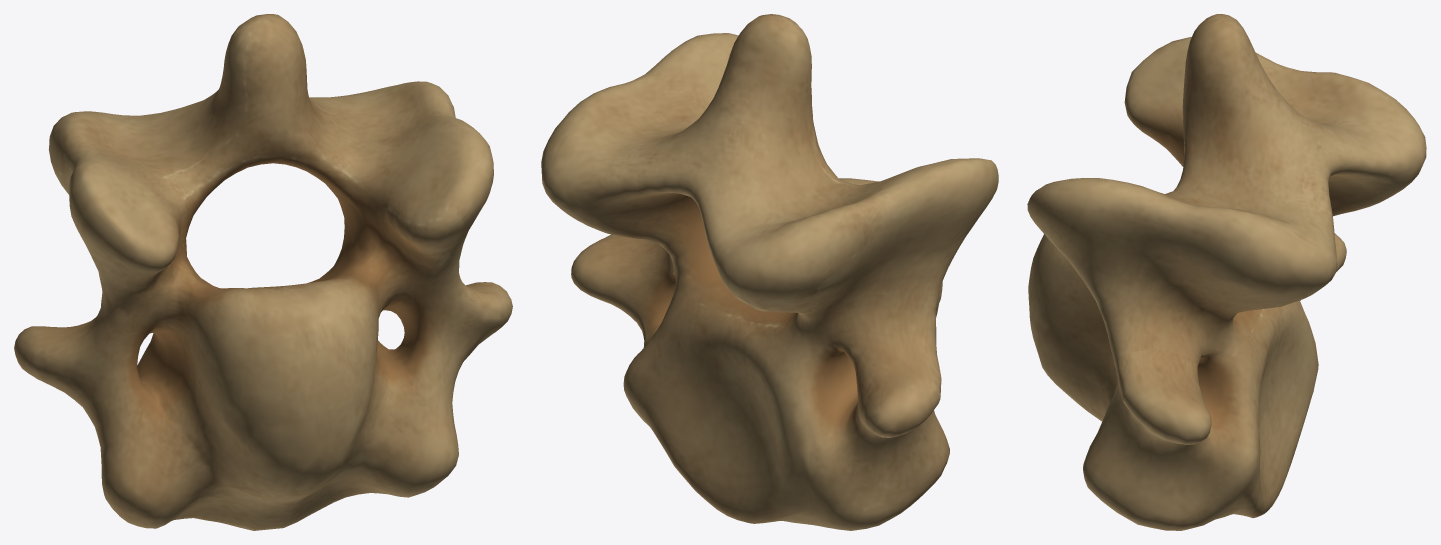
3 renders of one model, left to right at view 1: azimuth 30°, elevation 25°; view 2: azimuth 150°, elevation 25°; view 3: azimuth 270°, elevation 25°, orthographic. The views are drawn at different scales.
Parts seen in each view (by area): view 1: Group36952; view 2: Group36952; view 3: Group36952.
Part boxes in pixels (x1=…): Group36952: x1=14, y1=14, x2=512, y2=530; Group36952: x1=541, y1=14, x2=998, y2=530; Group36952: x1=1027, y1=14, x2=1426, y2=530.
Size of the model in its own units: 60.4 by 69.45 by 51.19.
1 material, 1 textured.
